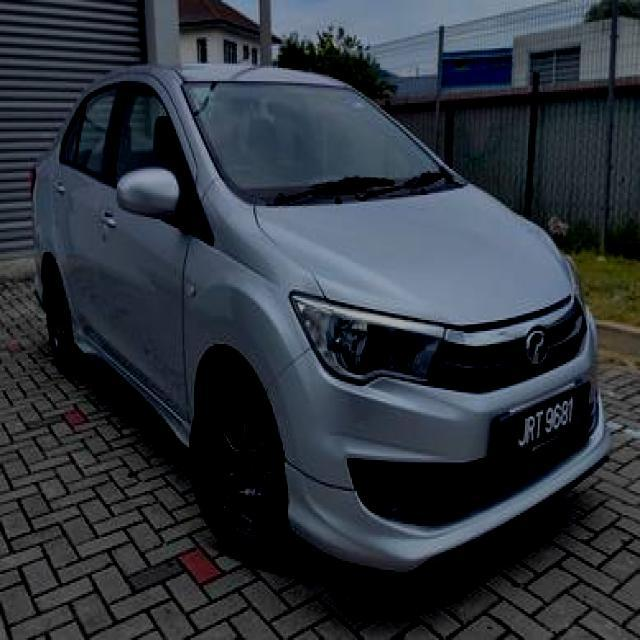PeroduaBezza: (29, 60, 612, 575)
